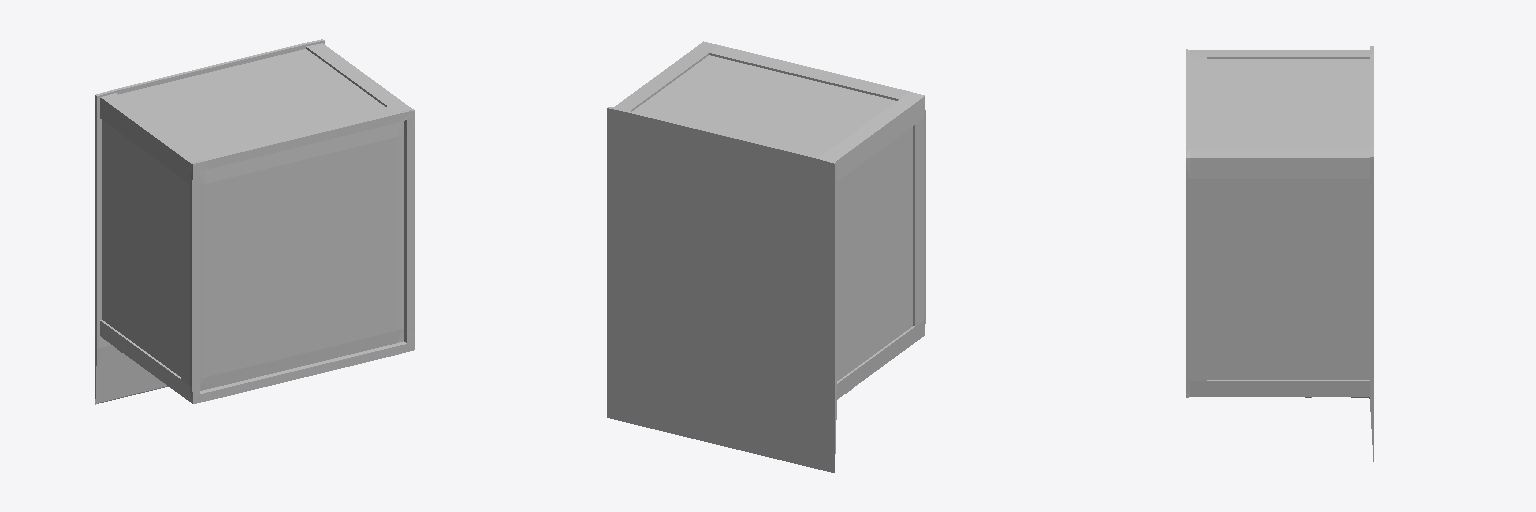
File: 10070_fire department_v2_L3.obj
3 views of the same model, side by side, from view 1: azimuth 30°, elevation 25°; view 2: azimuth 150°, elevation 25°; view 3: azimuth 270°, elevation 25° (orthographic).
Parts seen in each view (by area): view 1: 10070_Fire_Department_V2_Max2011; view 2: 10070_Fire_Department_V2_Max2011; view 3: 10070_Fire_Department_V2_Max2011.
Part boxes in pixels (x1,y1,x2,y2): 10070_Fire_Department_V2_Max2011: (95,39,414,404); 10070_Fire_Department_V2_Max2011: (607,41,925,472); 10070_Fire_Department_V2_Max2011: (1186,46,1373,461).
Size of the model in its own units: 1310 by 1706 by 937.